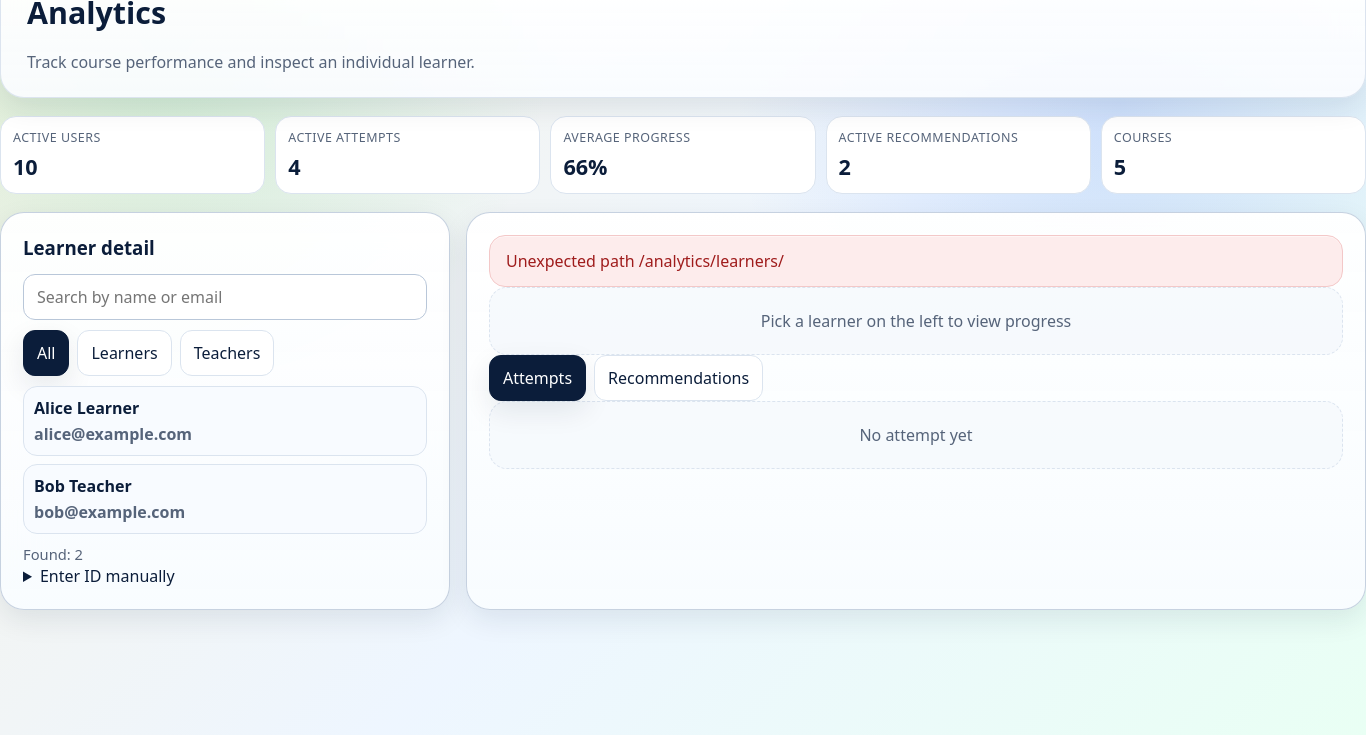
Test case: AnalyticsPage › shows attempt drawer with Close after selecting an attempt
Click the button "Alice Learner alice@example.com" at (87, 408), box [23,386,427,456]
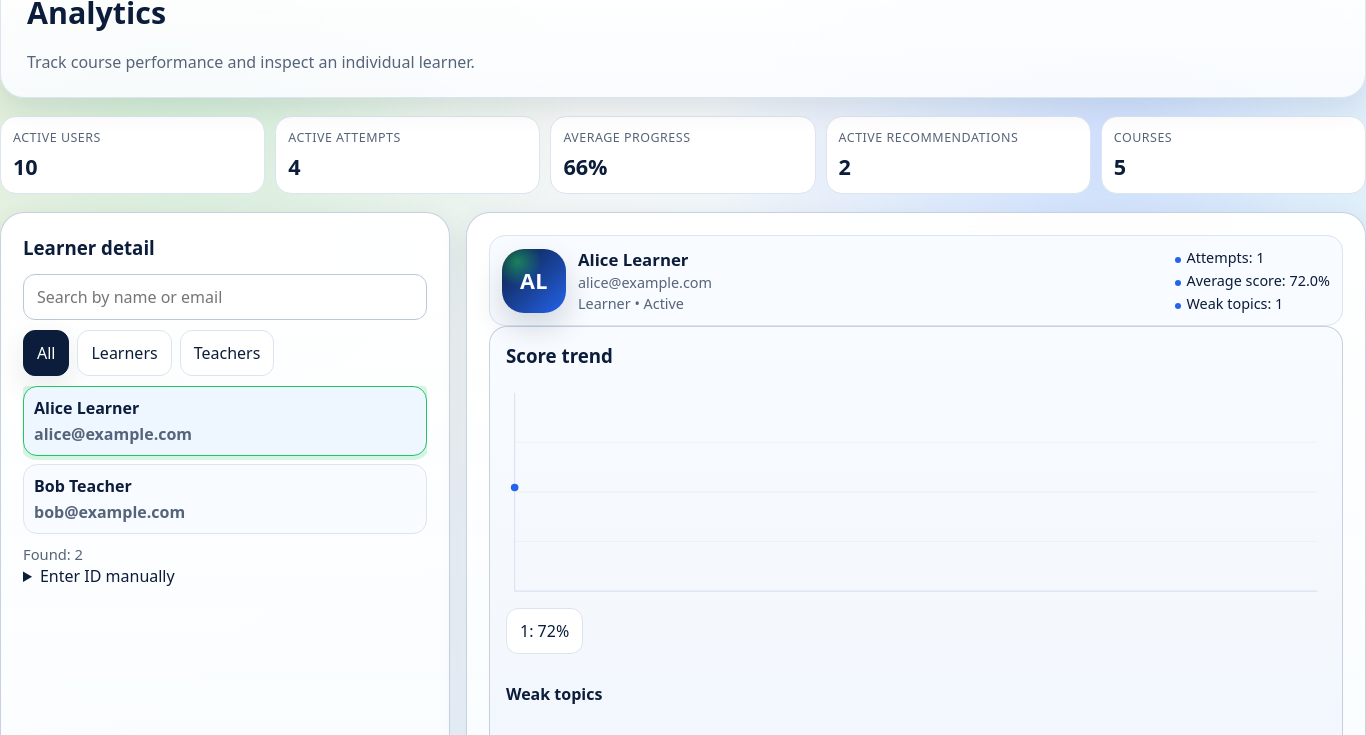
Click the button "1: 72%" at (545, 631), box [506,608,583,654]
(page scrolled)
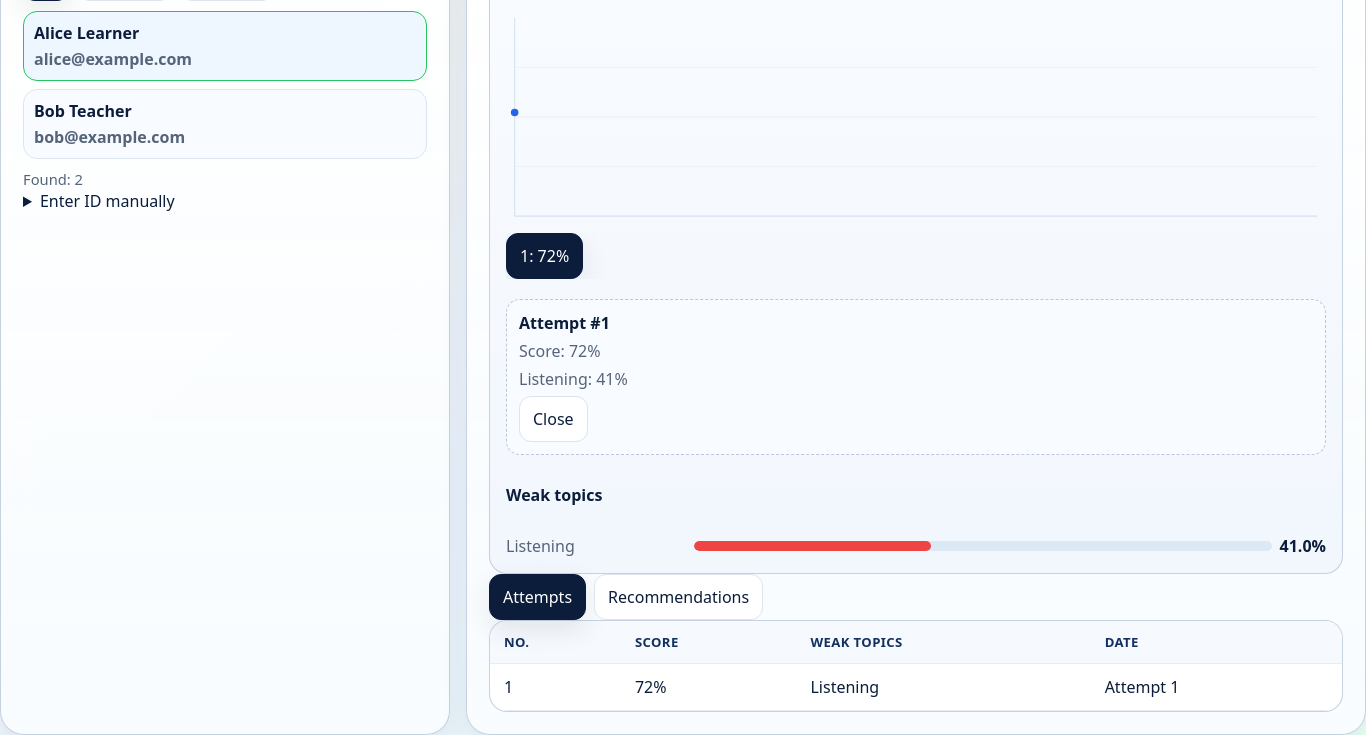
Now the element "Close" is shown, box [506,299,1326,455]
Click the button "Close" at (553, 419), box [519,396,588,442]
(page scrolled)
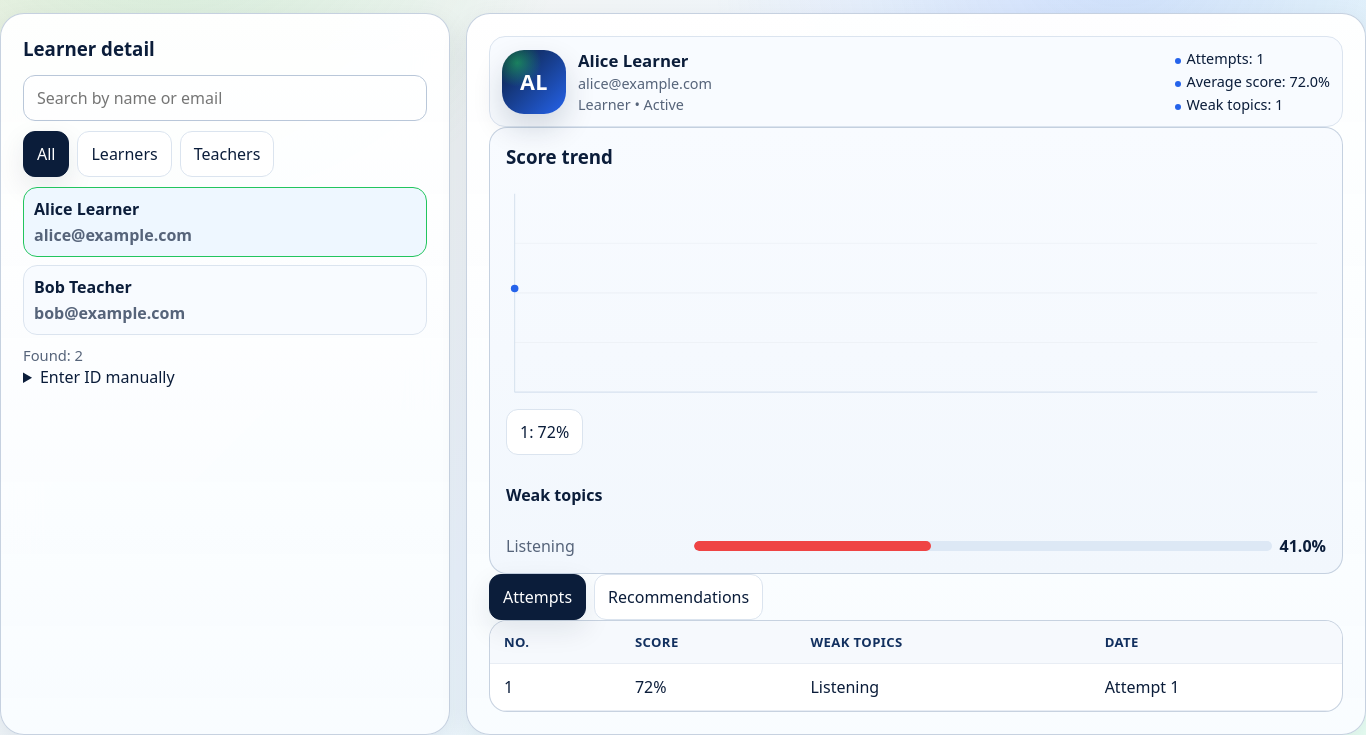
Now the button "Close" is gone
